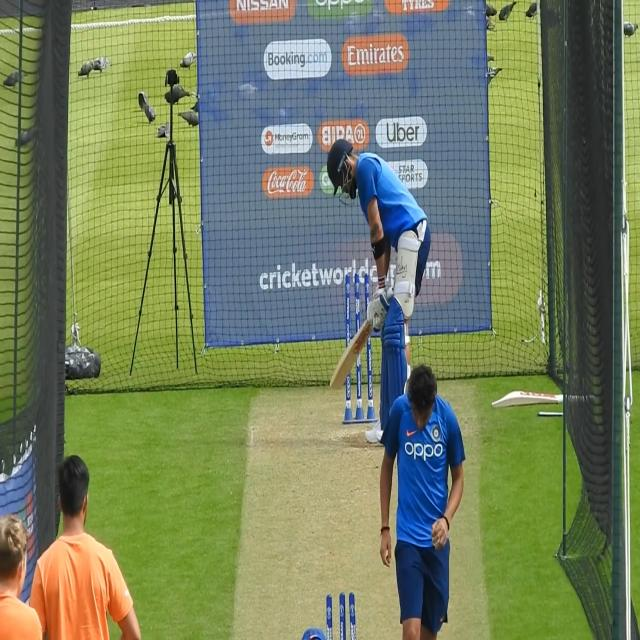stump: (343, 271, 375, 425)
